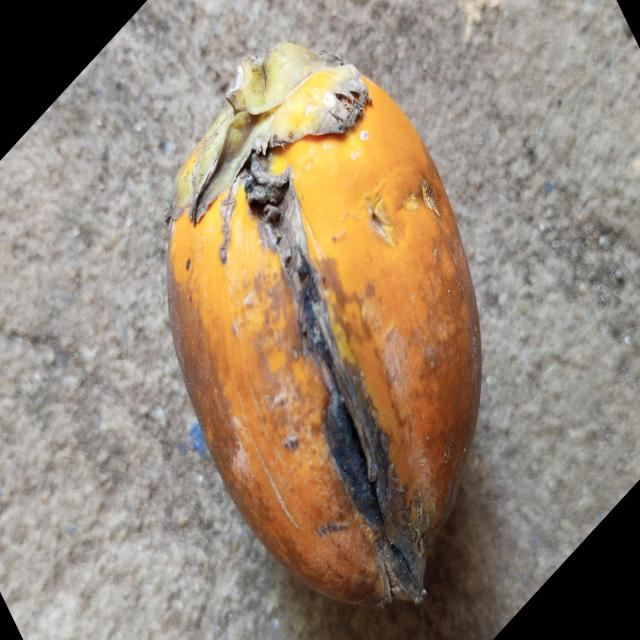damaged: (167, 43, 484, 611)
